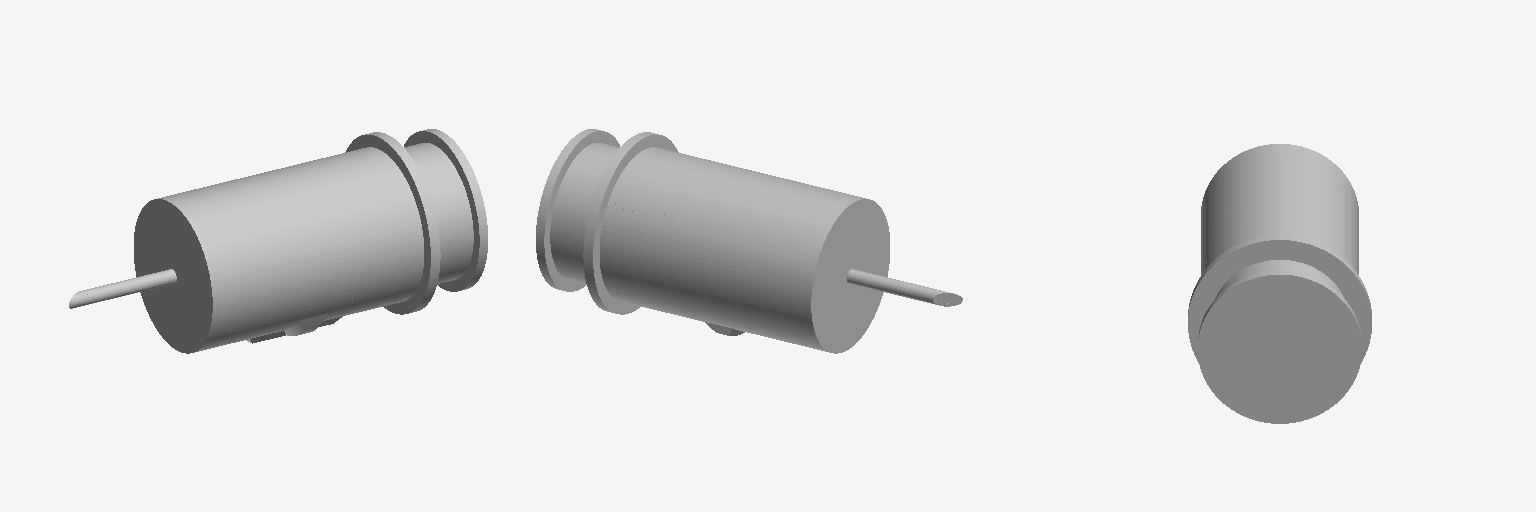
Rendered from 주사기.obj.
3 views of the same model, side by side, from view 1: azimuth 30°, elevation 25°; view 2: azimuth 150°, elevation 25°; view 3: azimuth 270°, elevation 25° (orthographic).
Visible parts, largest first — view 1: Object.1; view 2: Object.1; view 3: Object.1.
Part boxes in pixels (left/top/right/bottom): Object.1: left=69, top=129, right=487, bottom=353; Object.1: left=536, top=129, right=962, bottom=353; Object.1: left=1188, top=144, right=1371, bottom=423.
Size of the model in its own units: 2.39 by 1 by 1.